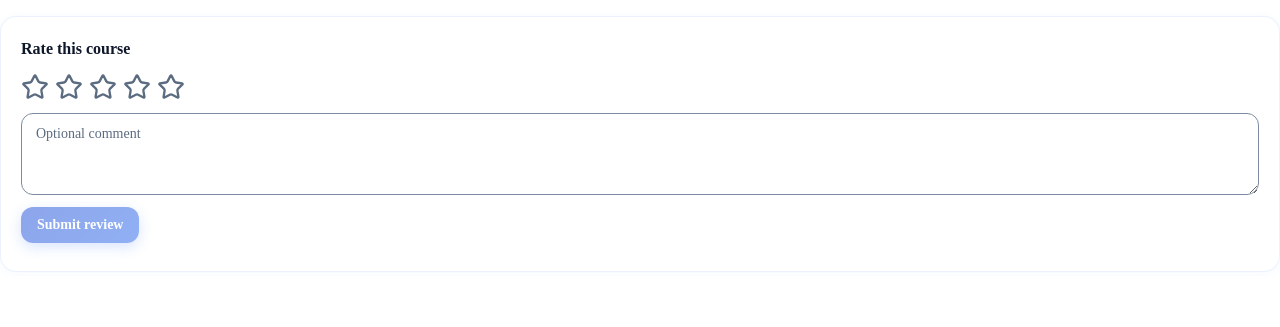
ReviewBox › a saved review is a polite success
What coordinates should you click on to do the following:
click the radio button named "4 stars"
I would click on:
 (137, 87)
Its box is [123,73,151,101].
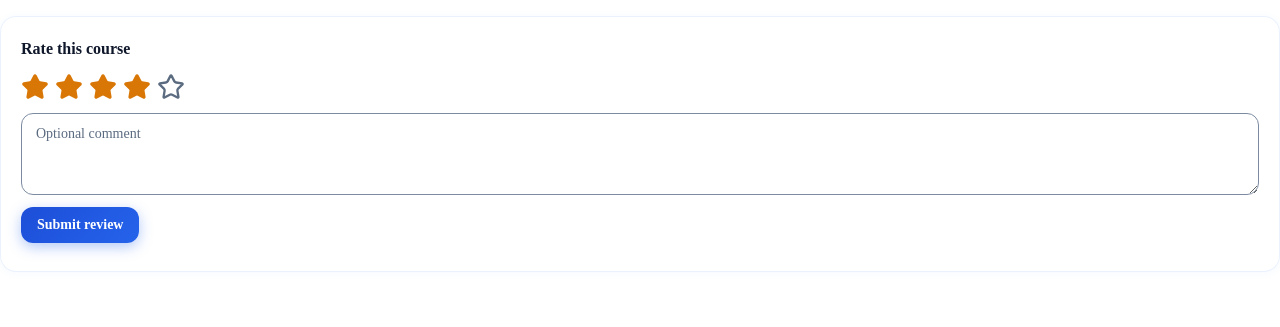
What coordinates should you click on to do the following:
click the button "Submit review"
I would click on:
 (80, 225)
Its box is [21,207,140,243].
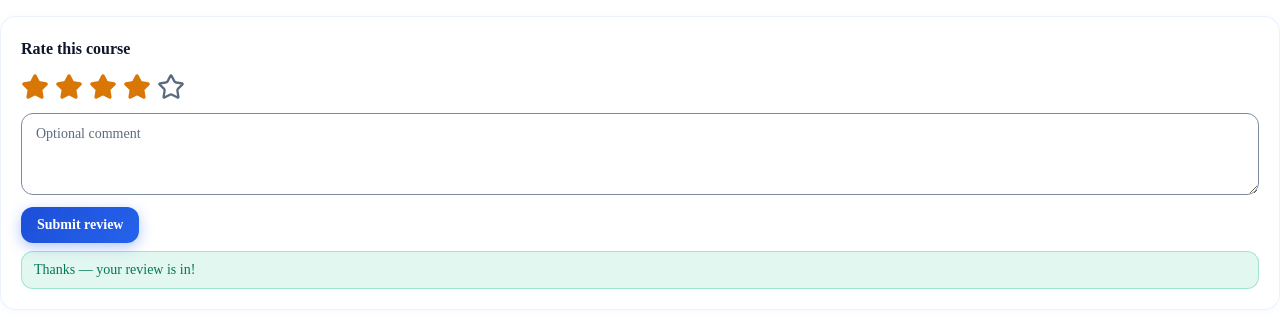
expect the message reads "Thanks — your review is in!": met, box [34,262,195,277]
expect the text "Thanks — your review is in!" is shown: met, box [21,251,1259,289]
